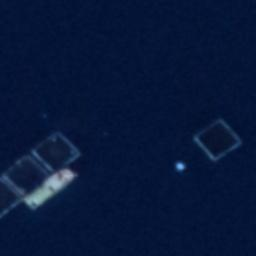square_solid: (26, 126, 82, 176), (189, 114, 243, 163), (2, 150, 53, 200), (1, 173, 30, 225)
